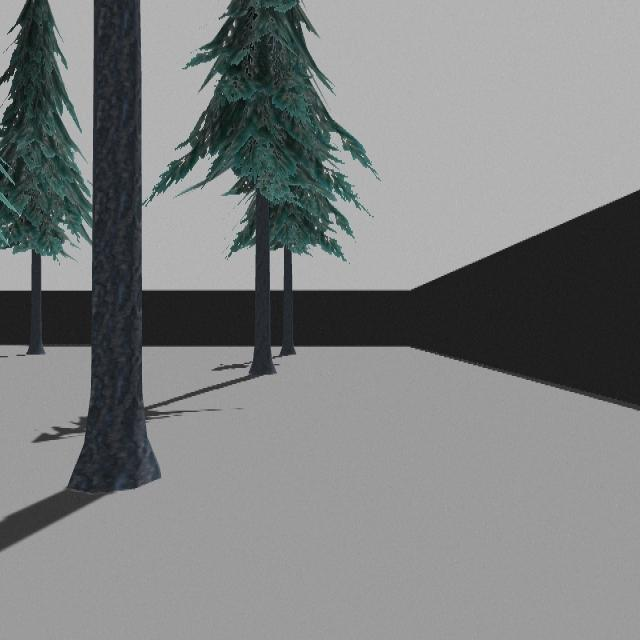tree: (143, 0, 373, 376), (67, 0, 161, 500)
